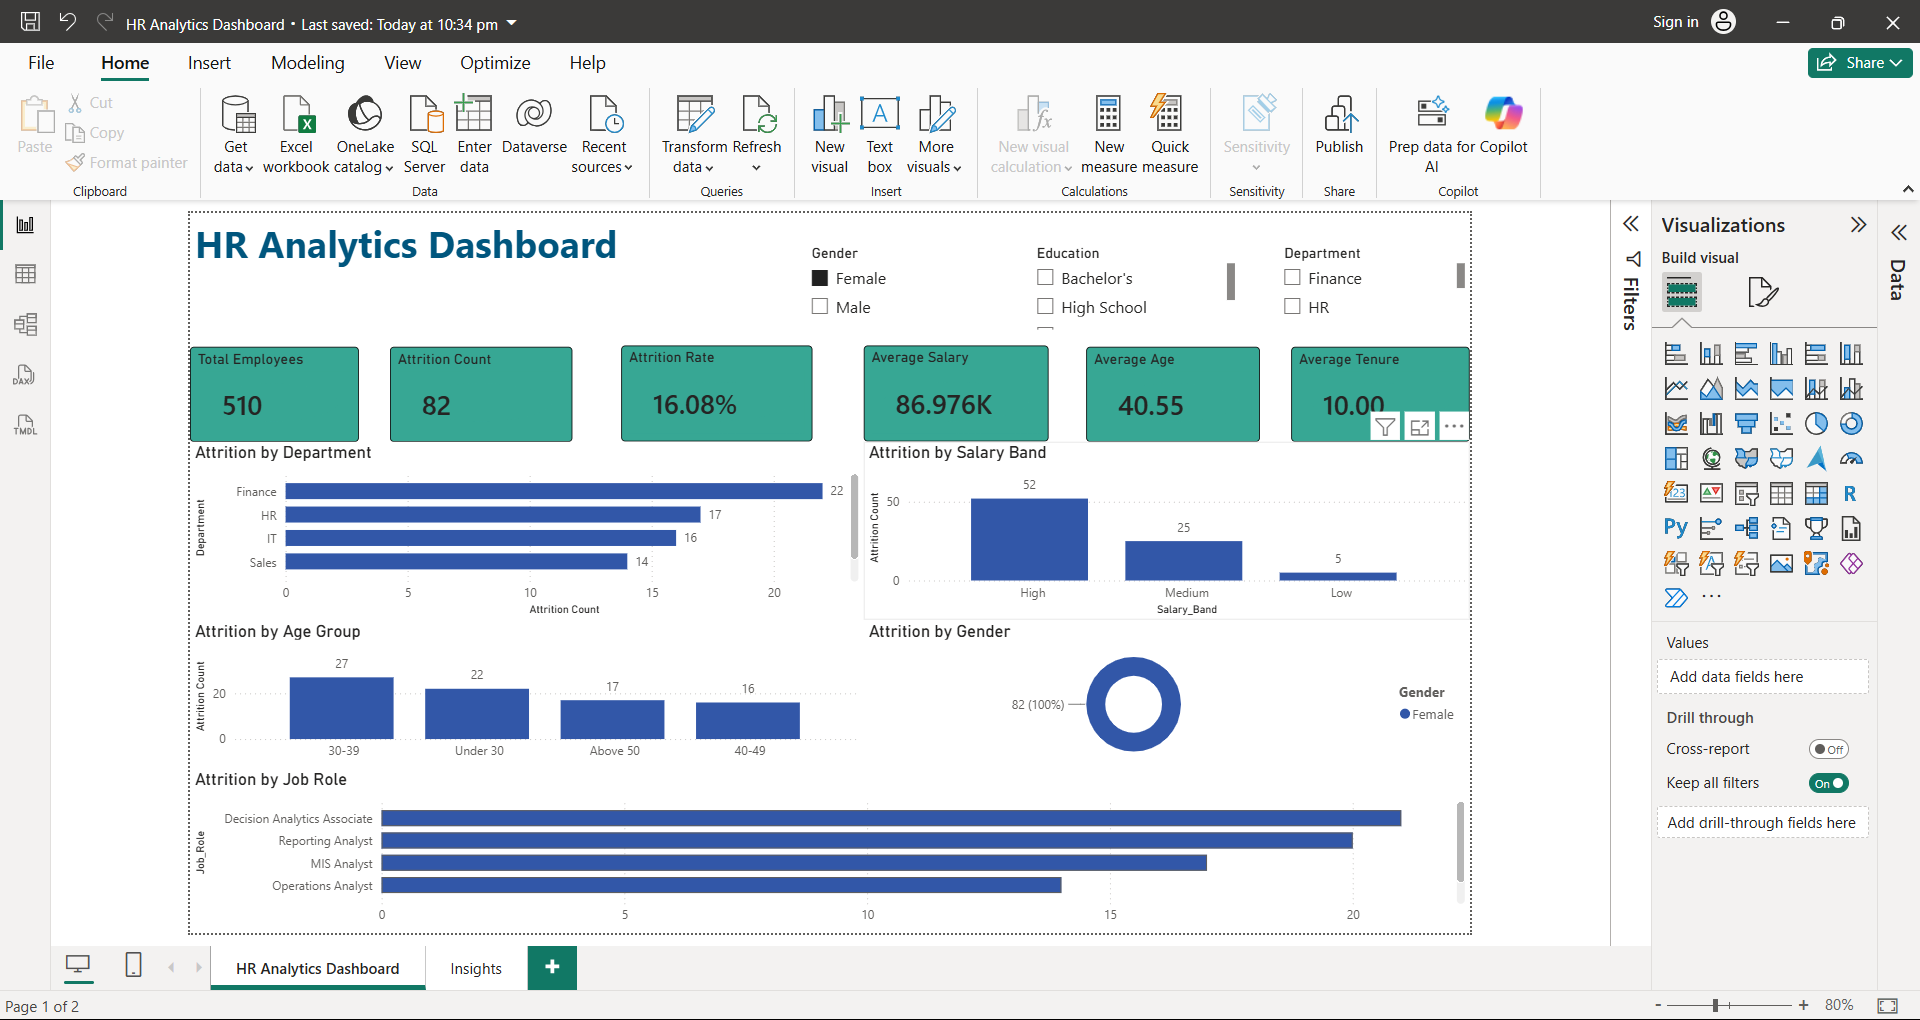

The dashboard page shown, as its layout file describes it:
{"tool":"powerbi","page":{"name":"HR Analytics Dashboard","canvas":[1280,720],"ordinal":0},"visuals":[{"type":"cardVisual","title":"Total Employees","fields":{"Data":["Measures (2).Total Employees"]},"box":[0,133.8,168.8,95],"z":0},{"type":"cardVisual","title":"Attrition Count","fields":{"Data":["Measures (2).Attrition Count"]},"box":[200,133.8,182.5,95],"z":1000},{"type":"cardVisual","title":"Attrition Rate","fields":{"Data":["Measures (2).Attrition Rate"]},"box":[431.2,132.5,191.2,96.2],"z":2000},{"type":"cardVisual","title":"Average Salary","fields":{"Data":["Measures (2).Average Salary"]},"box":[673.8,132.5,185,96.2],"z":3000},{"type":"cardVisual","title":"Average Age","fields":{"Data":["Measures (2).Average Age"]},"box":[896.2,133.8,173.8,95],"z":4000},{"type":"cardVisual","title":"Average Tenure","fields":{"Data":["Measures (2).Average Tenure"]},"box":[1101.2,133.8,178.8,95],"z":5000},{"type":"clusteredBarChart","title":"Attrition by Department","fields":{"Category":["HR_Analytics_Data.Department"],"Y":["Measures (2).Attrition Count"]},"box":[0,228.8,673.8,178.8],"z":6000},{"type":"donutChart","title":"Attrition by Gender","fields":{"Category":["HR_Analytics_Data.Gender"],"Y":["Measures (2).Attrition Count"]},"box":[673.8,407.5,606.2,148.8],"z":7000},{"type":"clusteredColumnChart","title":"Attrition by Age Group","fields":{"Category":["HR_Analytics_Data.Age_Group"],"Y":["Measures (2).Attrition Count"]},"box":[0,407.5,673.8,148.8],"z":8000},{"type":"clusteredColumnChart","title":"Attrition by Salary Band","fields":{"Category":["HR_Analytics_Data.Salary_Band"],"Y":["Measures (2).Attrition Count"]},"box":[673.8,228.8,606.2,178.8],"z":9000},{"type":"clusteredBarChart","title":"Attrition by Job Role","fields":{"Category":["HR_Analytics_Data.Job_Role"],"Y":["Measures (2).Attrition Count"]},"box":[0,556.2,1280,163.8],"z":10000},{"type":"textbox","box":[0,0,527.5,121.2],"z":11000},{"type":"slicer","fields":{"Values":["HR_Analytics_Data.Education"]},"box":[833.8,26.2,216.2,95],"z":12000},{"type":"slicer","fields":{"Values":["HR_Analytics_Data.Gender"]},"box":[608.8,26.2,200,95],"z":13000},{"type":"slicer","fields":{"Values":["HR_Analytics_Data.Department"]},"box":[1081.2,26.2,198.8,90],"z":14000}]}

Visuals, with their boxes on the page's 1280x720 design canvas (x1, y1, x2, y2). These are canvas units, not pixel positions in the 1920x1020 screenshot, which may show the page scaled, cropped or inside an application window:
"Total Employees" cardVisual: <bbox>0, 134, 169, 229</bbox>
"Attrition Count" cardVisual: <bbox>200, 134, 382, 229</bbox>
"Attrition Rate" cardVisual: <bbox>431, 132, 622, 229</bbox>
"Average Salary" cardVisual: <bbox>674, 132, 859, 229</bbox>
"Average Age" cardVisual: <bbox>896, 134, 1070, 229</bbox>
"Average Tenure" cardVisual: <bbox>1101, 134, 1280, 229</bbox>
"Attrition by Department" clusteredBarChart: <bbox>0, 229, 674, 408</bbox>
"Attrition by Gender" donutChart: <bbox>674, 408, 1280, 556</bbox>
"Attrition by Age Group" clusteredColumnChart: <bbox>0, 408, 674, 556</bbox>
"Attrition by Salary Band" clusteredColumnChart: <bbox>674, 229, 1280, 408</bbox>
"Attrition by Job Role" clusteredBarChart: <bbox>0, 556, 1280, 720</bbox>
textbox: <bbox>0, 0, 528, 121</bbox>
slicer - HR_Analytics_Data.Education: <bbox>834, 26, 1050, 121</bbox>
slicer - HR_Analytics_Data.Gender: <bbox>609, 26, 809, 121</bbox>
slicer - HR_Analytics_Data.Department: <bbox>1081, 26, 1280, 116</bbox>
